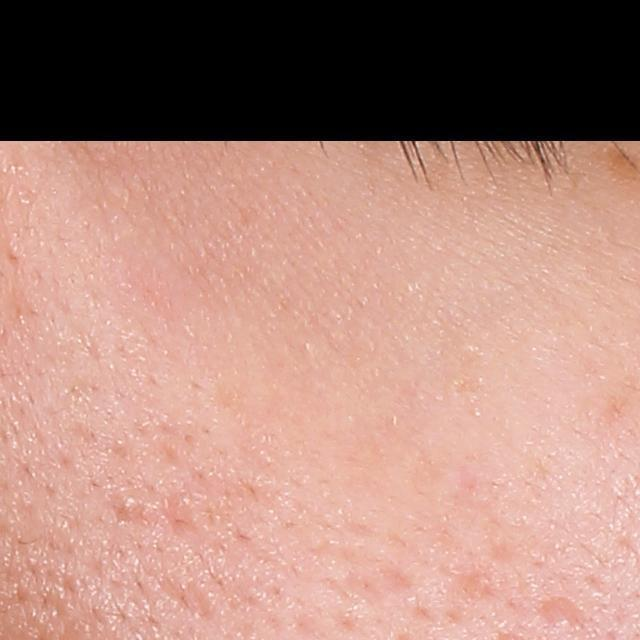atrophic_scar: (156, 574, 218, 619), (450, 571, 492, 621), (537, 597, 587, 638)
